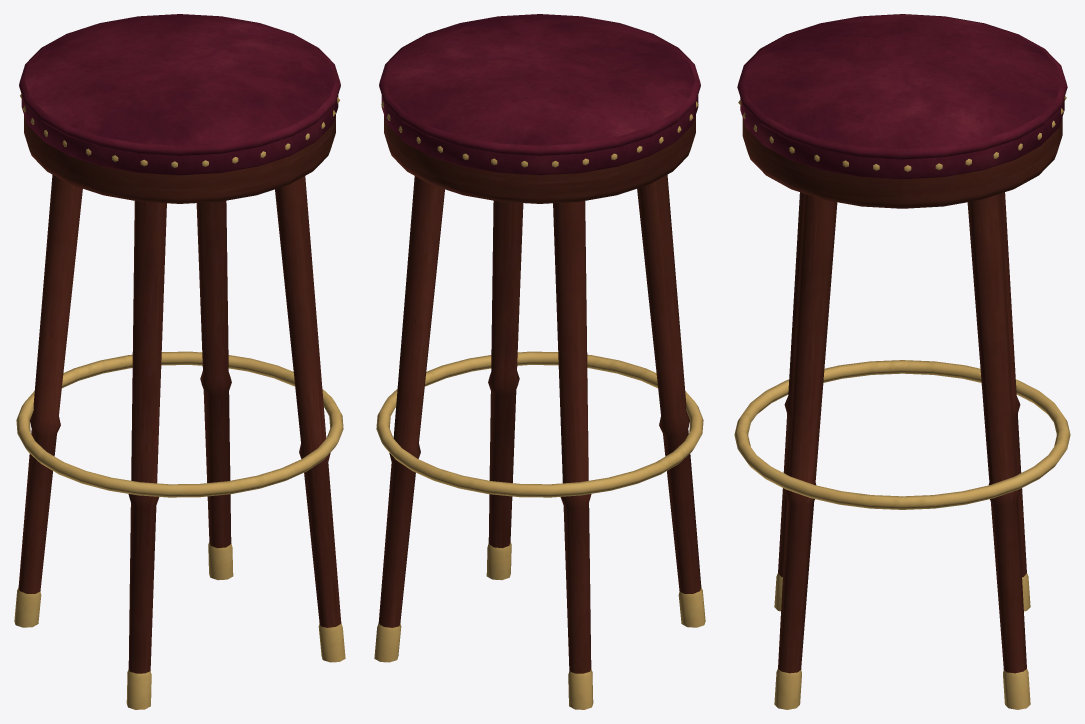
File: BarStool.glb
The picture shows the model from 3 angles, left to right: view 1: azimuth 30°, elevation 25°; view 2: azimuth 150°, elevation 25°; view 3: azimuth 270°, elevation 25°; orthographic projection. The views are drawn at different scales.
Parts seen in each view (by area): view 1: BarStool_Wood, BarStool_Leather, BarStool_Brass; view 2: BarStool_Wood, BarStool_Leather, BarStool_Brass; view 3: BarStool_Leather, BarStool_Wood, BarStool_Brass.
Boxes of the visible parts, bbox=[...] form: BarStool_Wood: bbox=[18, 115, 341, 673]; BarStool_Leather: bbox=[19, 14, 340, 175]; BarStool_Brass: bbox=[14, 94, 345, 709]; BarStool_Wood: bbox=[378, 115, 701, 673]; BarStool_Leather: bbox=[379, 14, 700, 175]; BarStool_Brass: bbox=[374, 101, 705, 709]; BarStool_Leather: bbox=[737, 14, 1067, 179]; BarStool_Wood: bbox=[742, 117, 1062, 673]; BarStool_Brass: bbox=[734, 96, 1070, 709].
Bounding box in the file's own units: 0.3918 × 0.76 × 0.3918.
3 materials, 3 textured.
